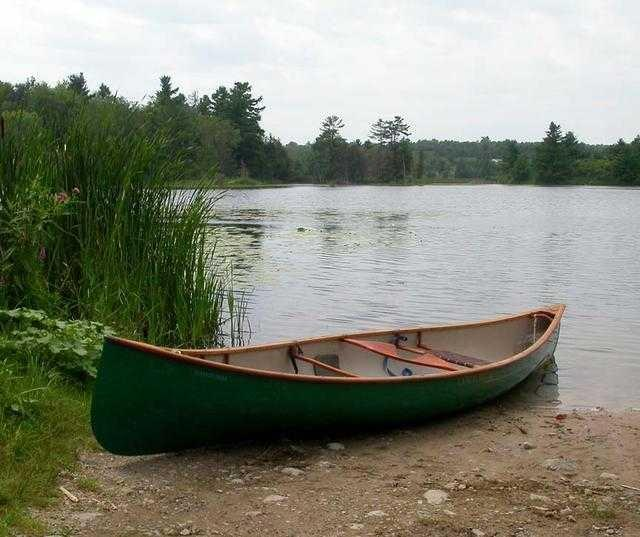kayak: (90, 303, 566, 455)
